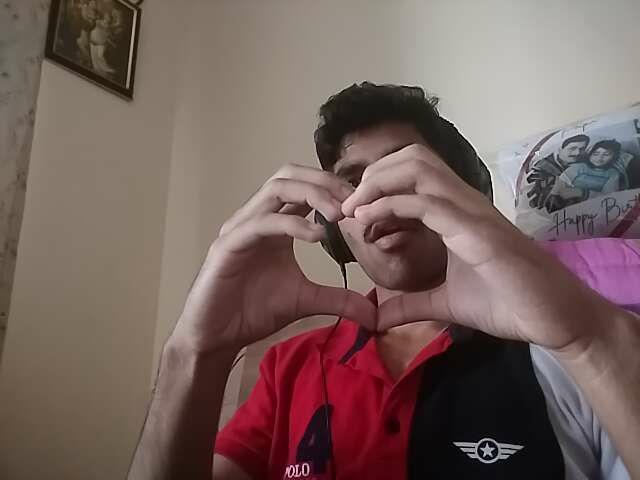I Love You: (125, 155, 588, 367)
